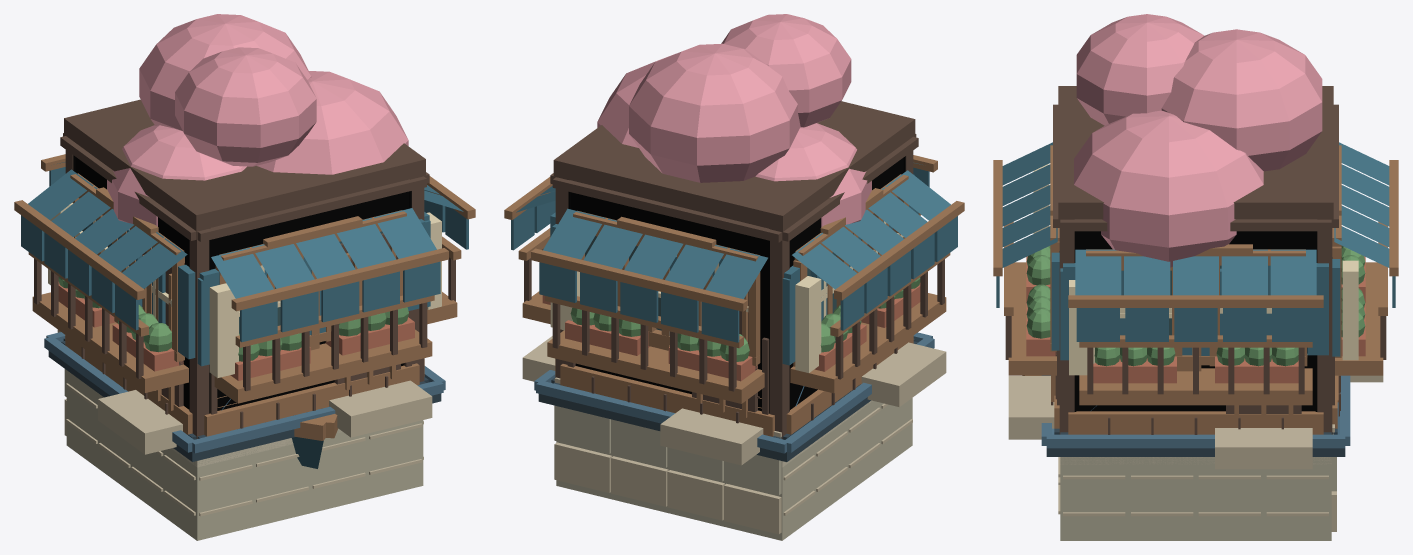
Rendered from canal-kit.glb.
3 renders of one model, left to right at view 1: azimuth 30°, elevation 25°; view 2: azimuth 150°, elevation 25°; view 3: azimuth 270°, elevation 25°, orthographic. The views are drawn at different scales.
Visible parts, largest first — view 1: engawa, sakura, foundation, room_4_2, room_8_2, roof_0, room_4_0, room_8_0, room_4_2_upper, room_8_2_upper, room_2_2, room_9_1 (+5 smaller); view 2: engawa, sakura, room_1_2, bank_corner, room_8_2, foundation, roof_0, room_1_0, room_1_2_upper, room_8_0, room_2_2, room_8_2_upper (+4 smaller); view 3: sakura, engawa, foundation, room_2_2, room_1_2, room_4_2, roof_0, room_2_2_upper, room_2_0, room_4_0, room_4_2_upper, room_3_1 (+6 smaller).
Part boxes in pixels (x1=…): engawa: x1=28, y1=99, x2=461, y2=438; sakura: x1=107, y1=14, x2=408, y2=229; foundation: x1=66, y1=370, x2=423, y2=540; room_4_2: x1=209, y1=208, x2=448, y2=378; room_8_2: x1=14, y1=169, x2=187, y2=330; roof_0: x1=44, y1=332, x2=445, y2=461; room_4_0: x1=215, y1=233, x2=432, y2=437; room_8_0: x1=75, y1=194, x2=183, y2=454; room_4_2_upper: x1=230, y1=307, x2=414, y2=380; room_8_2_upper: x1=58, y1=277, x2=183, y2=371; room_2_2: x1=424, y1=176, x2=475, y2=309; room_9_1: x1=118, y1=229, x2=195, y2=359; engawa: x1=518, y1=101, x2=950, y2=439; sakura: x1=597, y1=14, x2=871, y2=227; room_1_2: x1=531, y1=208, x2=767, y2=342; bank_corner: x1=554, y1=377, x2=781, y2=534; room_8_2: x1=792, y1=170, x2=964, y2=372; foundation: x1=556, y1=398, x2=912, y2=540; roof_0: x1=534, y1=332, x2=934, y2=461; room_1_0: x1=585, y1=229, x2=763, y2=465; room_1_2_upper: x1=565, y1=307, x2=757, y2=381; room_8_0: x1=793, y1=196, x2=946, y2=407; room_2_2: x1=504, y1=177, x2=555, y2=250; room_8_2_upper: x1=814, y1=277, x2=920, y2=371; sakura: x1=1074, y1=14, x2=1322, y2=267; engawa: x1=1004, y1=86, x2=1387, y2=434; foundation: x1=1058, y1=457, x2=1331, y2=540; room_2_2: x1=1068, y1=249, x2=1323, y2=375; room_1_2: x1=1334, y1=142, x2=1398, y2=360; room_4_2: x1=993, y1=142, x2=1057, y2=307; roof_0: x1=1041, y1=375, x2=1350, y2=456; room_2_2_upper: x1=1093, y1=347, x2=1298, y2=383; room_2_0: x1=1120, y1=262, x2=1312, y2=469; room_4_0: x1=1008, y1=351, x2=1056, y2=439; room_4_2_upper: x1=1026, y1=246, x2=1056, y2=356; room_3_1: x1=1063, y1=263, x2=1328, y2=355.
Bounding box in the file's own units: 1.5 × 1.83 × 1.5.
21 materials, 1 textured.
